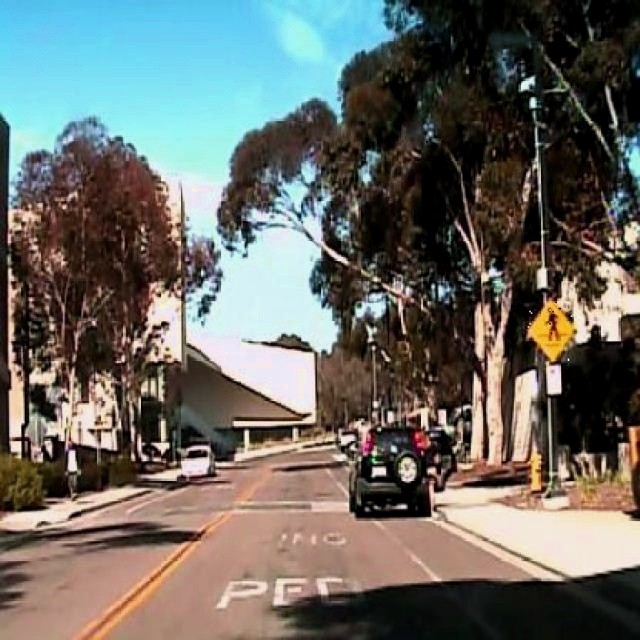pedestrianCrossing: (528, 297, 574, 363)
